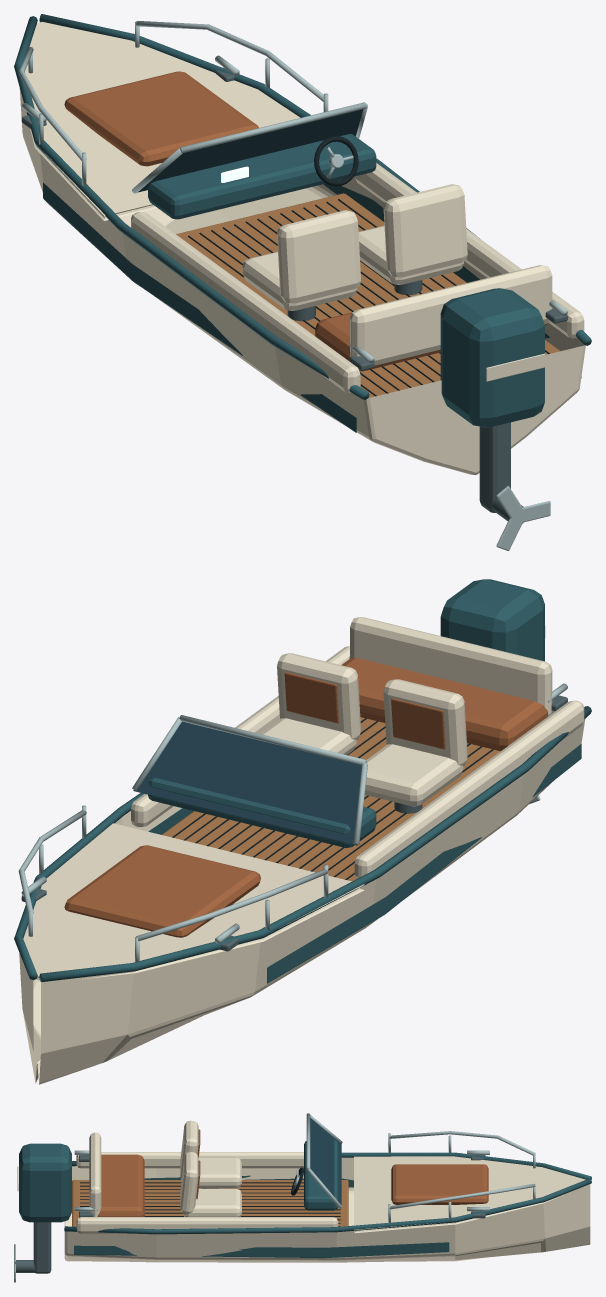
Rendered from stingray-boat.glb.
3 views of the same model, one above another, from view 1: azimuth 30°, elevation 25°; view 2: azimuth 150°, elevation 25°; view 3: azimuth 270°, elevation 25° (orthographic). The views are drawn at different scales.
Parts seen in each view (by area): view 1: Deep V hull, Forward deck, Outboard cowling, Bow sun pad, Cockpit sole, Dashboard, Stern bench back, Seat back.001, Seat back, Cockpit padded coaming, Continuous rub rail, Wraparound windscreen (+13 smaller); view 2: Deep V hull, Forward deck, Wraparound windscreen, Bow sun pad, Stern bench back, Cockpit sole, Stern bench, Outboard cowling, Cockpit padded coaming, Continuous rub rail, Bucket seat cushion, Hull color flash (+11 smaller); view 3: Deep V hull, Forward deck, Cockpit sole, Outboard cowling, Bow sun pad, Cockpit padded coaming.001, Continuous rub rail.001, Hull color flash.001, Stern bench, Cockpit padded coaming, Wraparound windscreen, Bucket seat cushion.001 (+12 smaller).
Part boxes in pixels (x1=…): Deep V hull: x1=19, y1=88, x2=585, y2=474; Forward deck: x1=25, y1=22, x2=300, y2=220; Outboard cowling: x1=440, y1=288, x2=544, y2=427; Bow sun pad: x1=64, y1=71, x2=258, y2=166; Cockpit sole: x1=176, y1=193, x2=560, y2=397; Dashboard: x1=148, y1=134, x2=376, y2=219; Stern bench back: x1=350, y1=265, x2=552, y2=365; Seat back.001: x1=383, y1=184, x2=467, y2=277; Seat back: x1=277, y1=210, x2=360, y2=303; Cockpit padded coaming: x1=131, y1=212, x2=360, y2=392; Continuous rub rail: x1=14, y1=16, x2=369, y2=399; Wraparound windscreen: x1=138, y1=109, x2=363, y2=192; Deep V hull: x1=19, y1=710, x2=585, y2=1084; Forward deck: x1=23, y1=823, x2=364, y2=982; Wraparound windscreen: x1=133, y1=721, x2=361, y2=845; Bow sun pad: x1=64, y1=845, x2=260, y2=937; Stern bench back: x1=350, y1=617, x2=552, y2=716; Cockpit sole: x1=162, y1=717, x2=500, y2=881; Stern bench: x1=341, y1=657, x2=547, y2=751; Outboard cowling: x1=440, y1=579, x2=544, y2=661; Cockpit padded coaming: x1=354, y1=700, x2=584, y2=878; Continuous rub rail: x1=39, y1=706, x2=591, y2=981; Bucket seat cushion: x1=365, y1=744, x2=463, y2=806; Hull color flash: x1=267, y1=744, x2=581, y2=983; Deep V hull: x1=64, y1=1157, x2=590, y2=1262; Forward deck: x1=354, y1=1156, x2=585, y2=1233; Cockpit sole: x1=72, y1=1180, x2=348, y2=1226; Outboard cowling: x1=19, y1=1143, x2=71, y2=1222; Bow sun pad: x1=391, y1=1164, x2=488, y2=1204; Cockpit padded coaming.001: x1=76, y1=1217, x2=338, y2=1233; Continuous rub rail.001: x1=64, y1=1178, x2=591, y2=1234; Hull color flash.001: x1=74, y1=1242, x2=449, y2=1257; Stern bench: x1=97, y1=1154, x2=144, y2=1216; Cockpit padded coaming: x1=76, y1=1152, x2=303, y2=1168; Wraparound windscreen: x1=307, y1=1118, x2=341, y2=1204; Bucket seat cushion.001: x1=183, y1=1188, x2=241, y2=1216.
Size of the model in its own units: 2.37 by 2.1 by 7.54.
